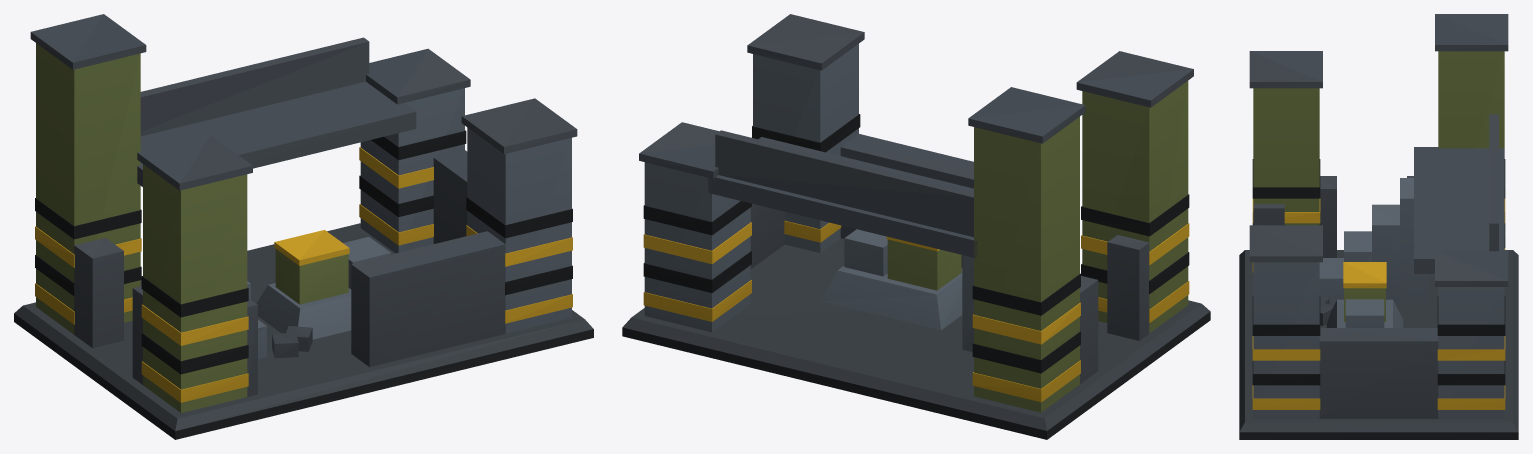
Rendered from outpost-depot.glb.
The picture shows the model from 3 angles, left to right: view 1: azimuth 30°, elevation 25°; view 2: azimuth 150°, elevation 25°; view 3: azimuth 270°, elevation 25°; orthographic projection. The views are drawn at different scales.
Bounding box in the file's own units: 6 × 4 × 4.
